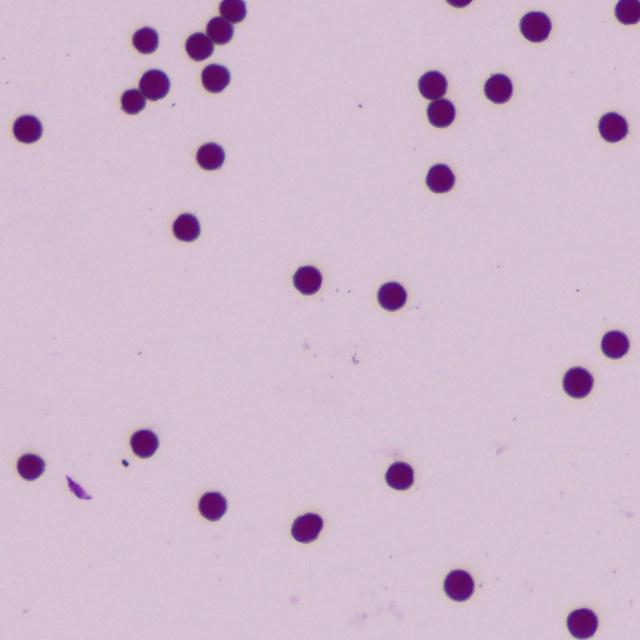viable: (520, 11, 551, 42), (139, 69, 169, 100), (292, 513, 323, 542), (567, 609, 597, 638), (563, 367, 592, 397), (444, 570, 473, 600), (13, 114, 42, 143), (418, 70, 447, 99), (385, 461, 413, 490), (427, 98, 455, 127), (599, 112, 627, 141), (293, 265, 321, 294), (484, 74, 512, 103), (601, 330, 629, 358), (199, 492, 227, 520), (185, 32, 213, 60), (130, 429, 158, 457), (196, 142, 224, 170), (378, 282, 406, 310), (206, 16, 233, 44), (202, 64, 229, 92), (426, 165, 454, 192), (173, 213, 199, 241), (132, 26, 158, 53), (17, 454, 44, 479), (615, 0, 639, 24), (122, 89, 145, 114), (219, 0, 245, 22), (446, 0, 471, 7)
